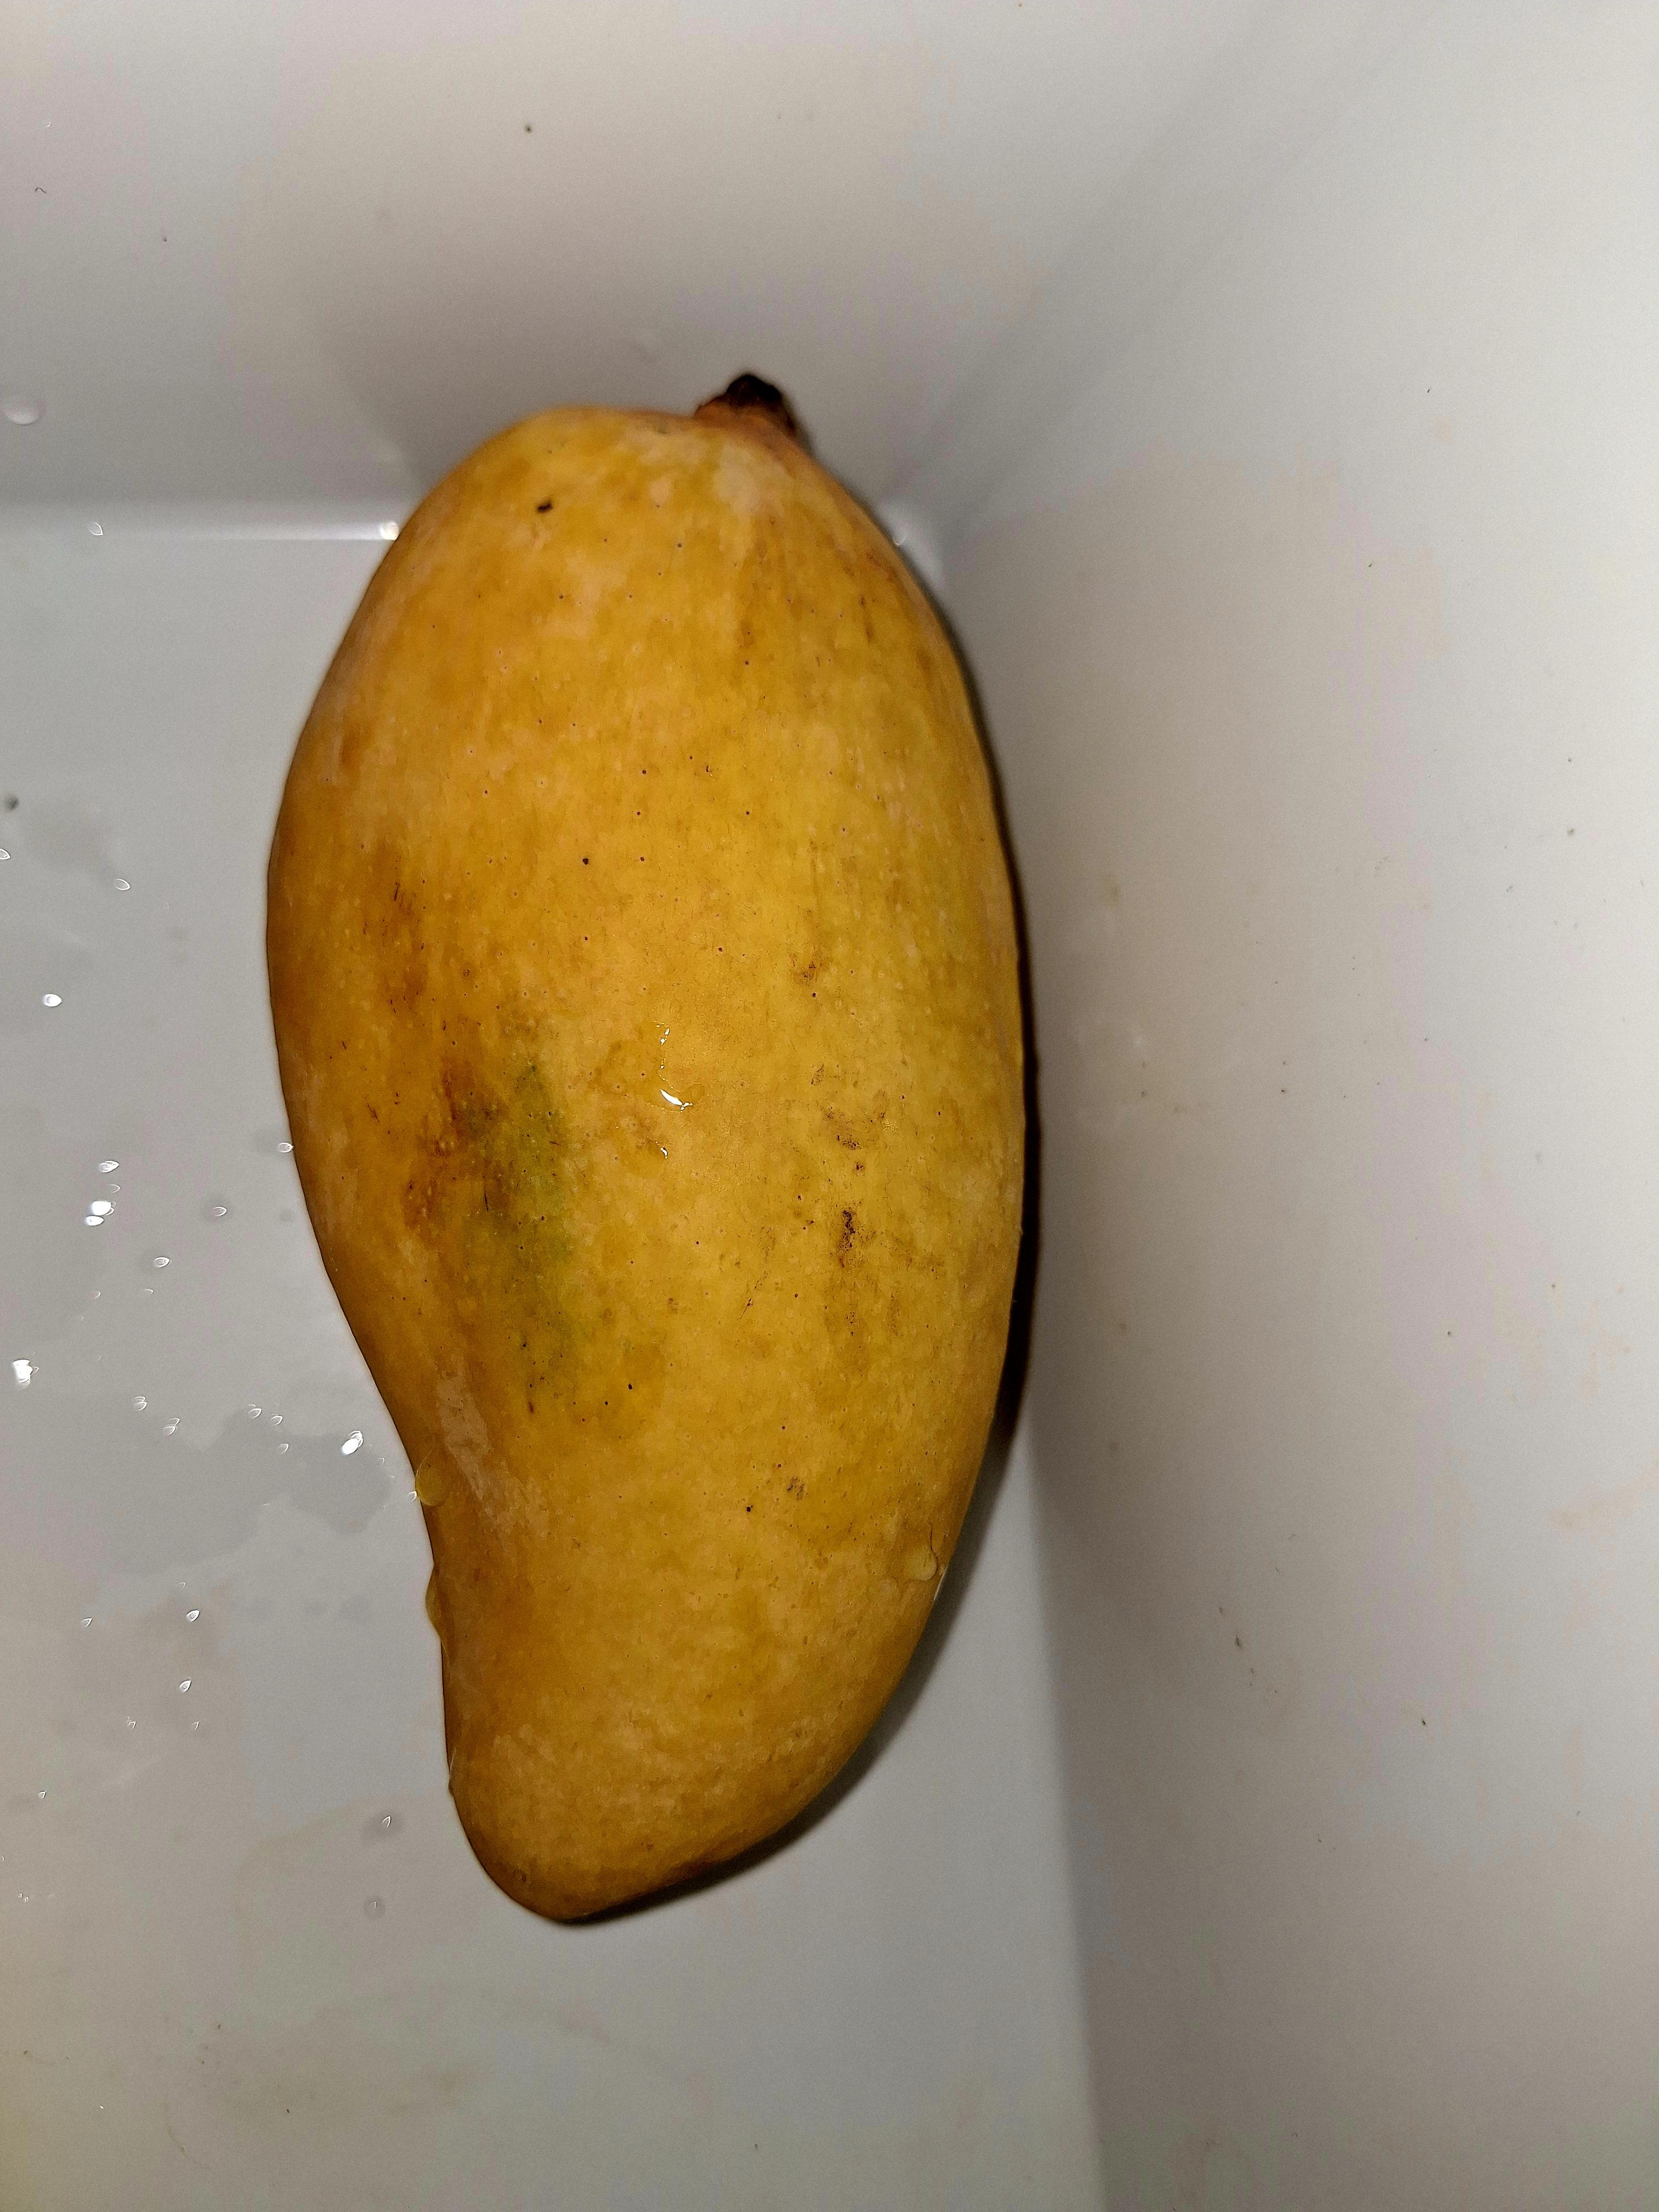mango: (263, 369, 1030, 1923)
